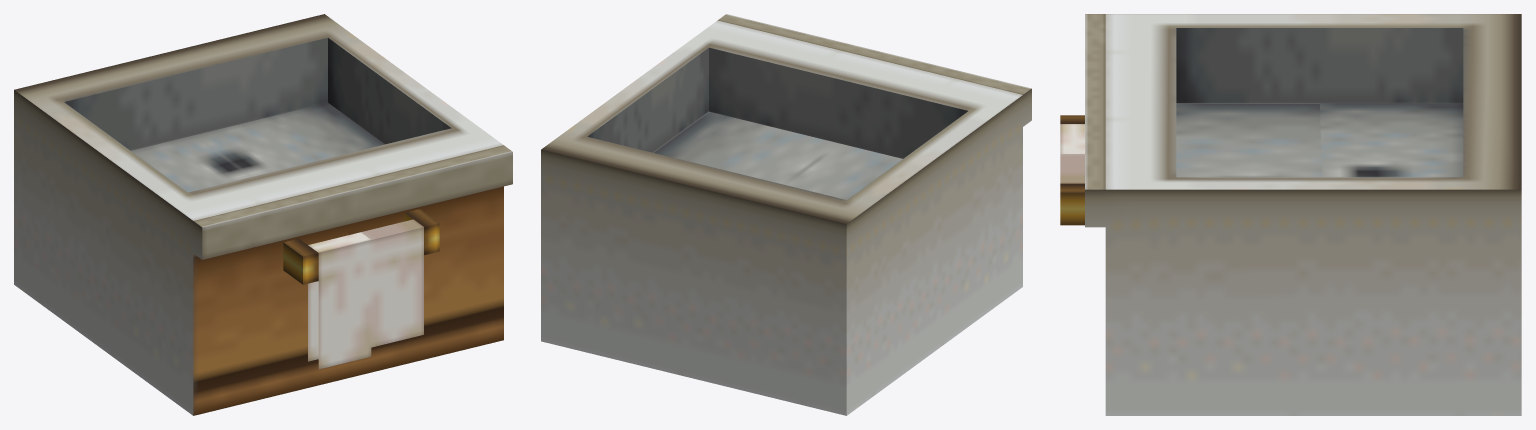
The model's file is Inside_Poly_Kitchen_Table_02.obj.
3 renders of one model, left to right at view 1: azimuth 30°, elevation 25°; view 2: azimuth 150°, elevation 25°; view 3: azimuth 270°, elevation 25°, orthographic. The views are drawn at different scales.
Parts seen in each view (by area): view 1: Cube; view 2: Cube; view 3: Cube.
Boxes of the visible parts, <box> form: Cube: <box>14,14,512,415</box>; Cube: <box>541,14,1031,415</box>; Cube: <box>1060,14,1521,415</box>.
Bounding box in the file's own units: 1 × 0.6 × 1.11.
Materials: 1 (1 with a texture image).
